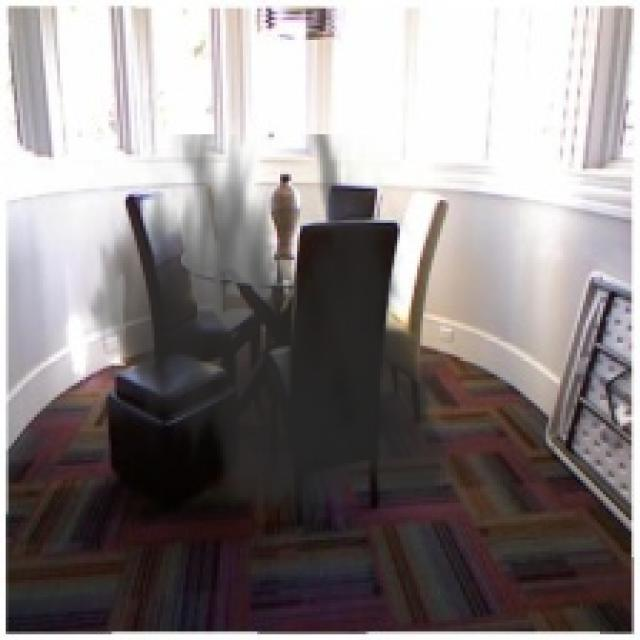smoke: (77, 134, 469, 537)
